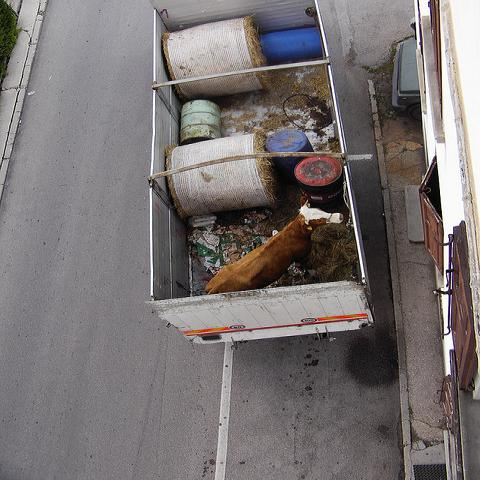truck: (153, 4, 374, 348)
